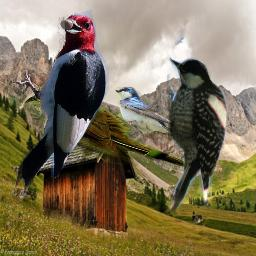Cuckoo: (24, 81, 197, 171)
Swallow: (115, 87, 188, 141)
Woodpecker: (8, 3, 109, 199), (167, 57, 228, 212)
